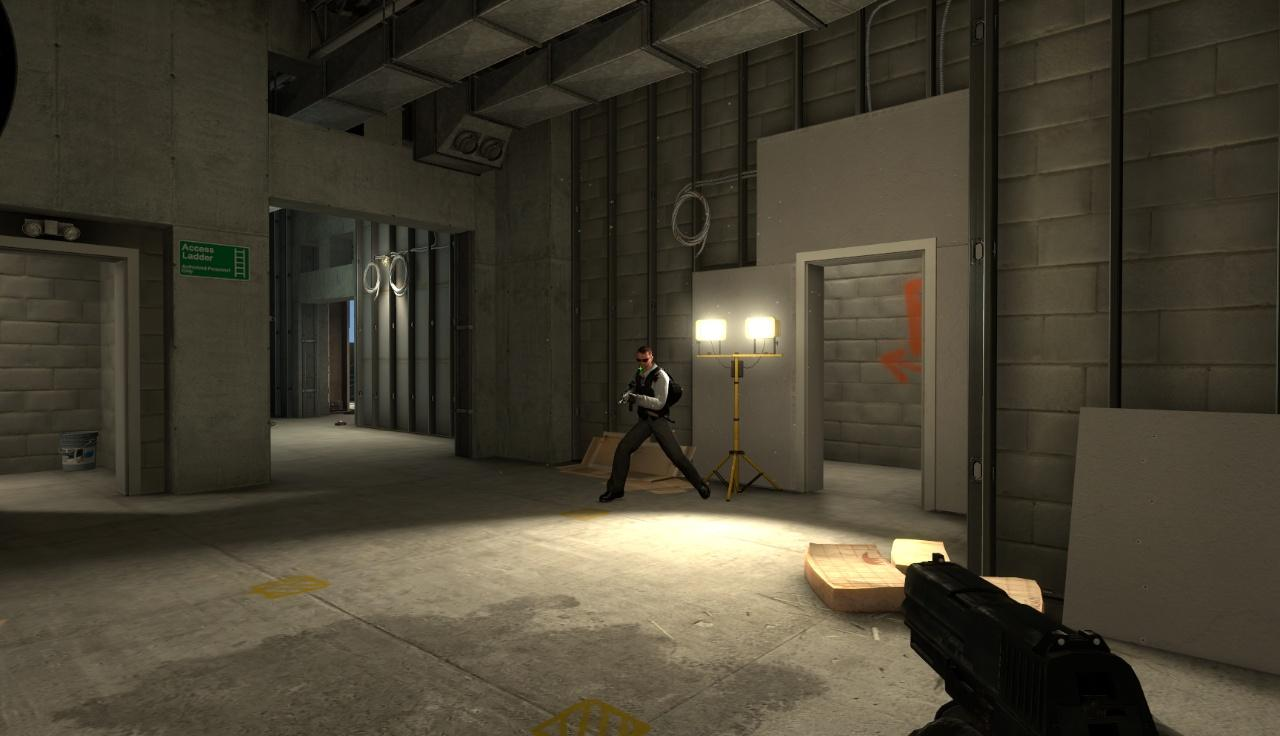pistol: (900, 558, 1163, 735)
tt: (605, 346, 708, 502)
tthead: (636, 347, 653, 369)
